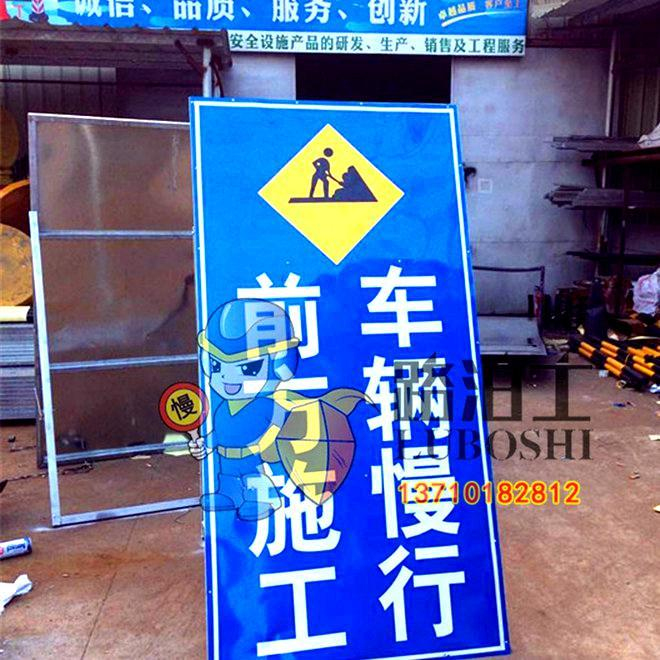sign: (188, 91, 499, 651)
